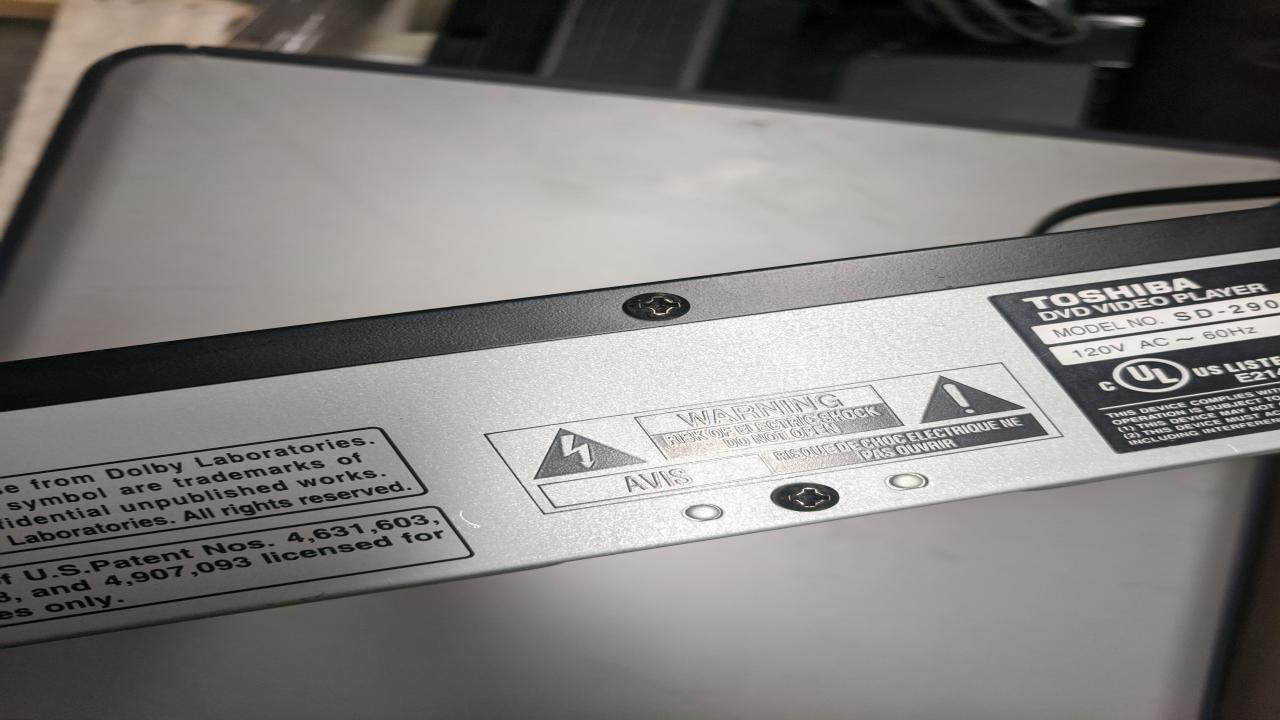CRS: (768, 482, 842, 513), (624, 291, 690, 323)
